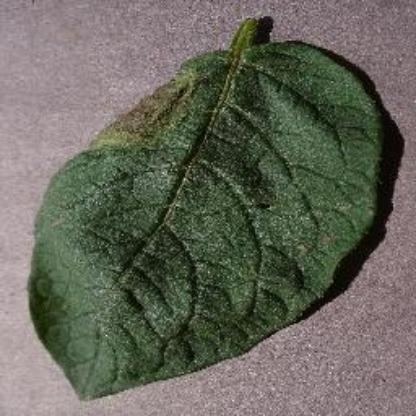Late-Blight: (19, 2, 415, 404)
